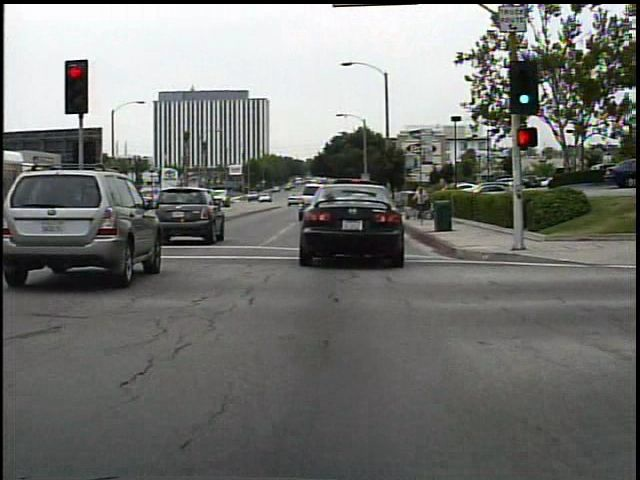person: (410, 182, 430, 225)
